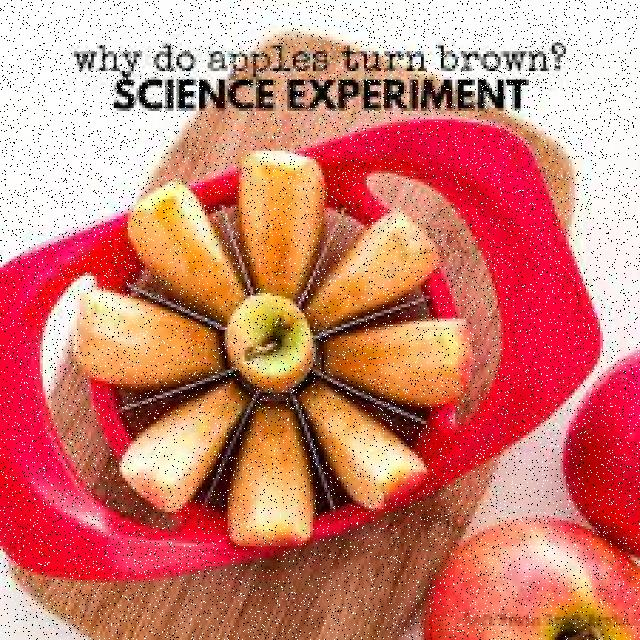Apple: (426, 516, 640, 640), (296, 384, 420, 516), (67, 288, 224, 391), (120, 384, 244, 505), (132, 189, 246, 315), (312, 214, 440, 317), (240, 149, 322, 305), (328, 323, 483, 405), (574, 355, 640, 545), (239, 404, 309, 580)
